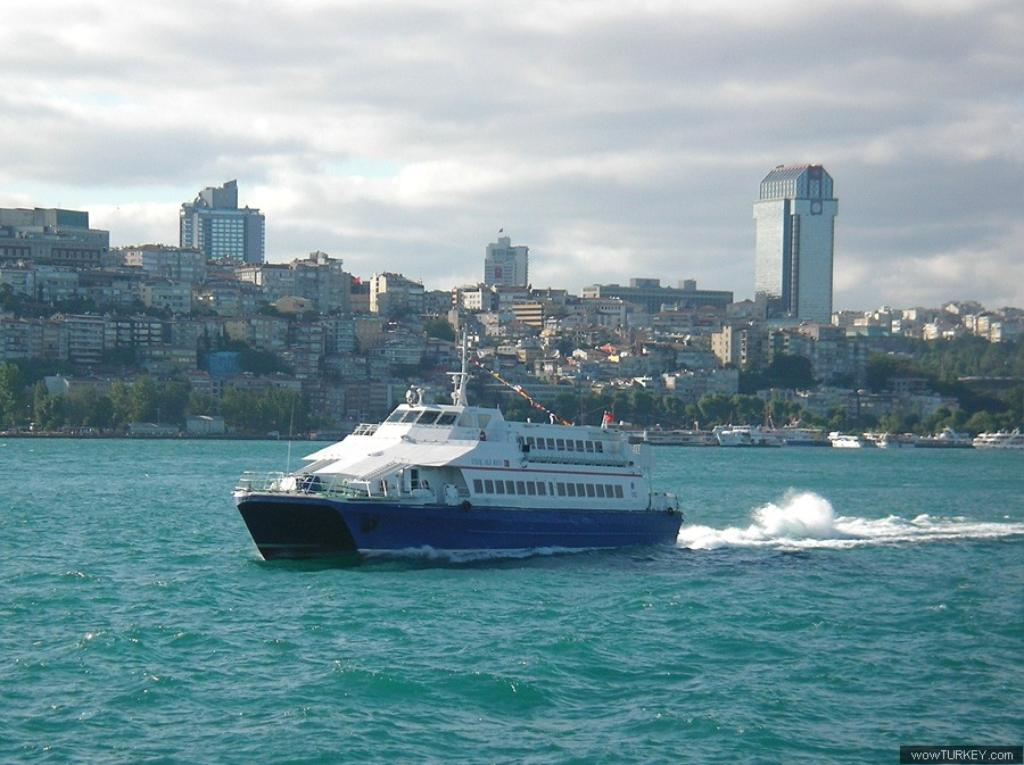PassengerShip: (229, 320, 693, 562)
